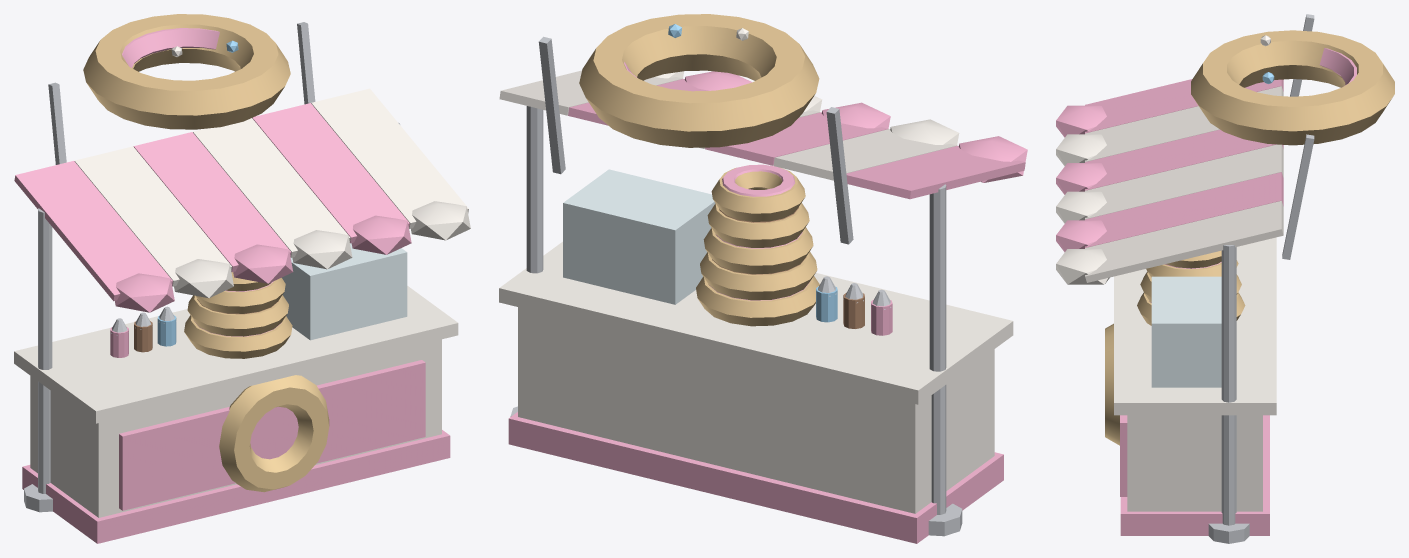
The model's file is stall_donut.glb.
3 renders of one model, left to right at view 1: azimuth 30°, elevation 25°; view 2: azimuth 150°, elevation 25°; view 3: azimuth 270°, elevation 25°, orthographic. The views are drawn at different scales.
Parts seen in each view (by area): view 1: stall_donut; view 2: stall_donut; view 3: stall_donut.
Boxes of the visible parts, <box> form: stall_donut: <box>14,14,470,543</box>; stall_donut: <box>499,14,1027,543</box>; stall_donut: <box>1056,14,1394,543</box>.
Size of the model in its own units: 3.26 by 3.29 by 2.5.
